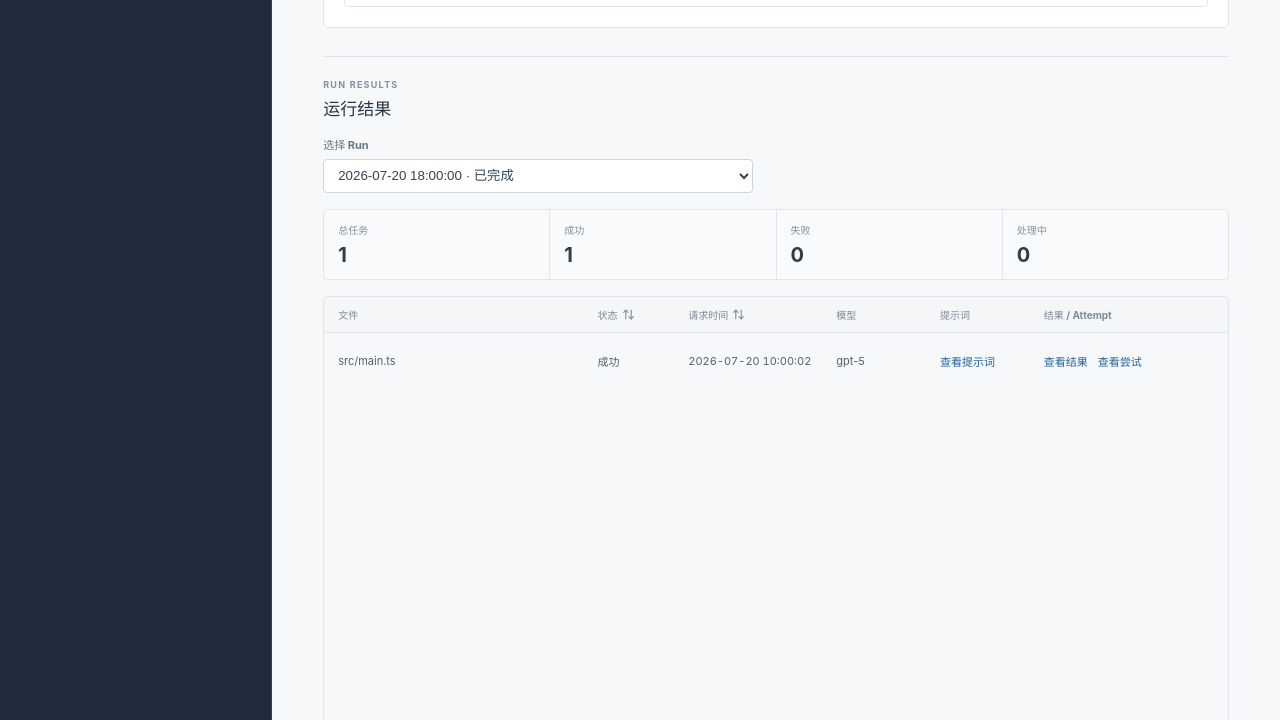
Test case: AppShell › disables prompt preview while the complete request is loading
The image size is (1280, 720).
(page scrolled)
What coordinates should you click on to do the following:
click the button with aria-label "查看提示词 src/main.ts"
I would click on:
 (968, 361)
Its box is [940,353,995,369].
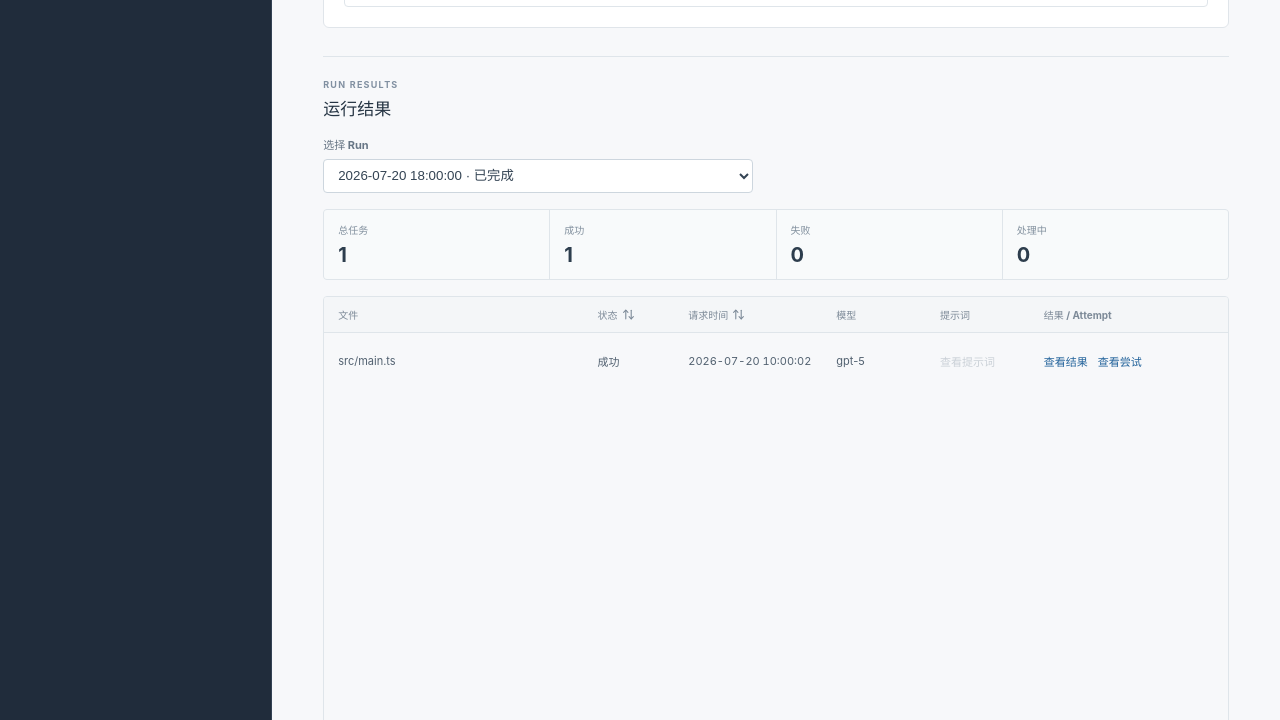
expect the button with aria-label "查看提示词 src/main.ts" is disabled: met, box [940,353,995,369]
